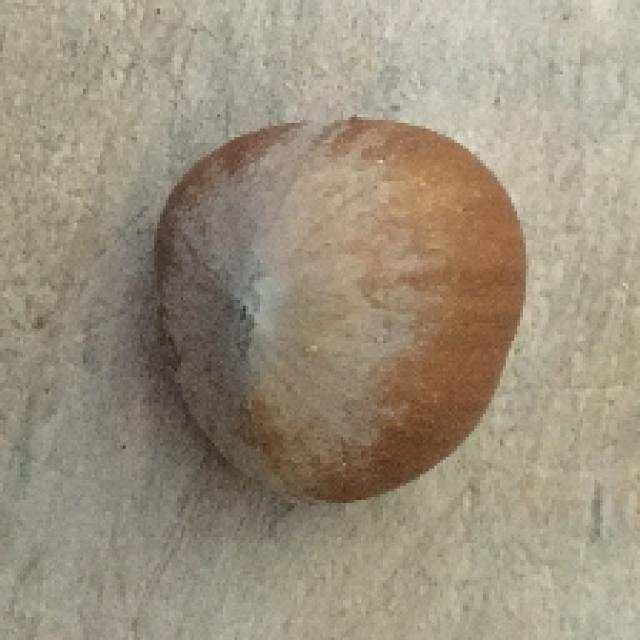qualityHazelnut: (152, 110, 528, 522)
